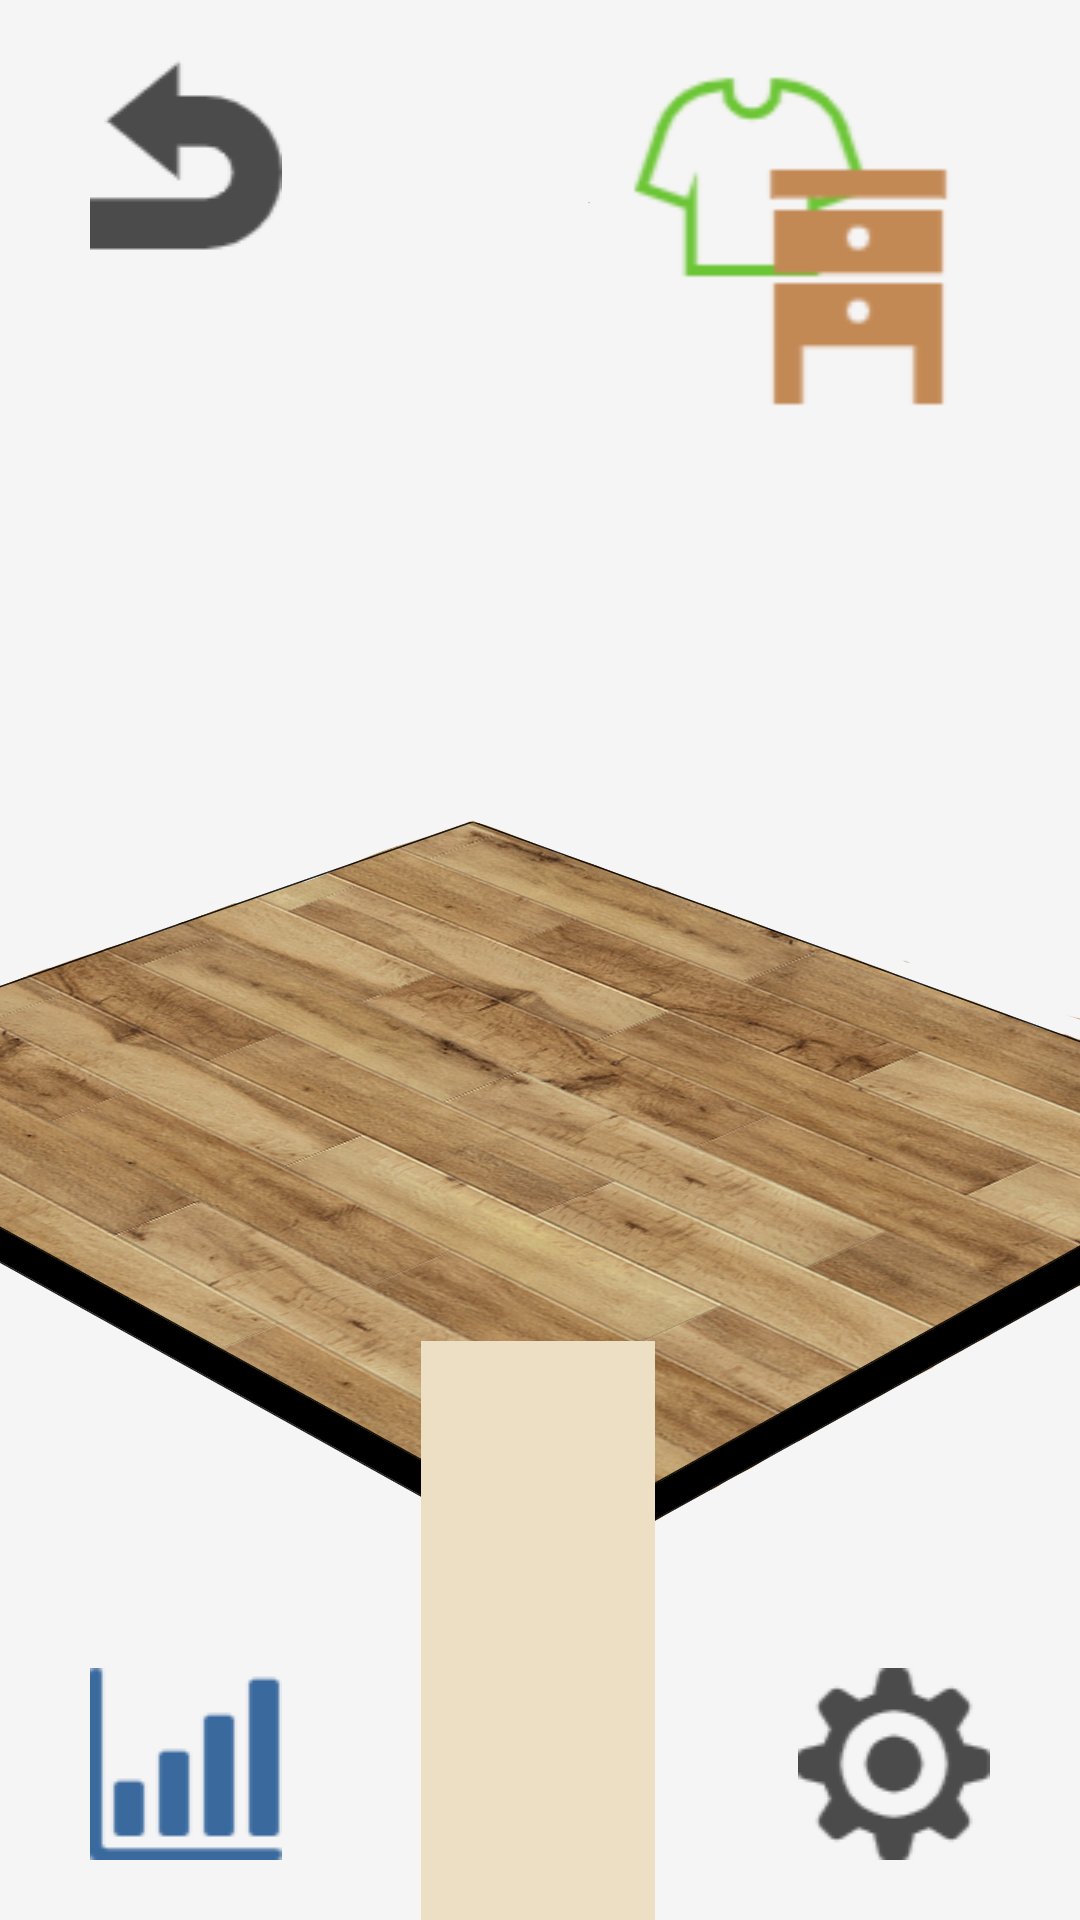

Screen size 1080*1920. Icon name, then its center in pixels as [x,y]:
back: [186,156]
myroom: [791,241]
record: [186,1764]
setting: [894,1764]
